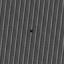dust: (29, 29, 33, 32)
